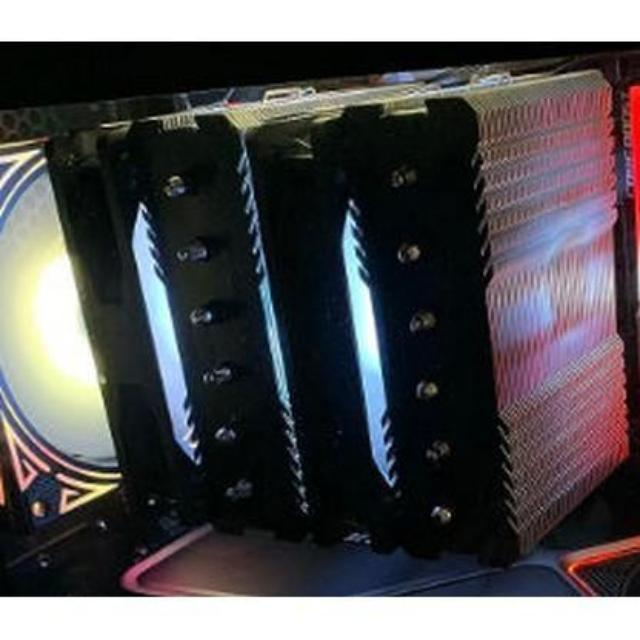CPU_Fan: (60, 54, 631, 560)
